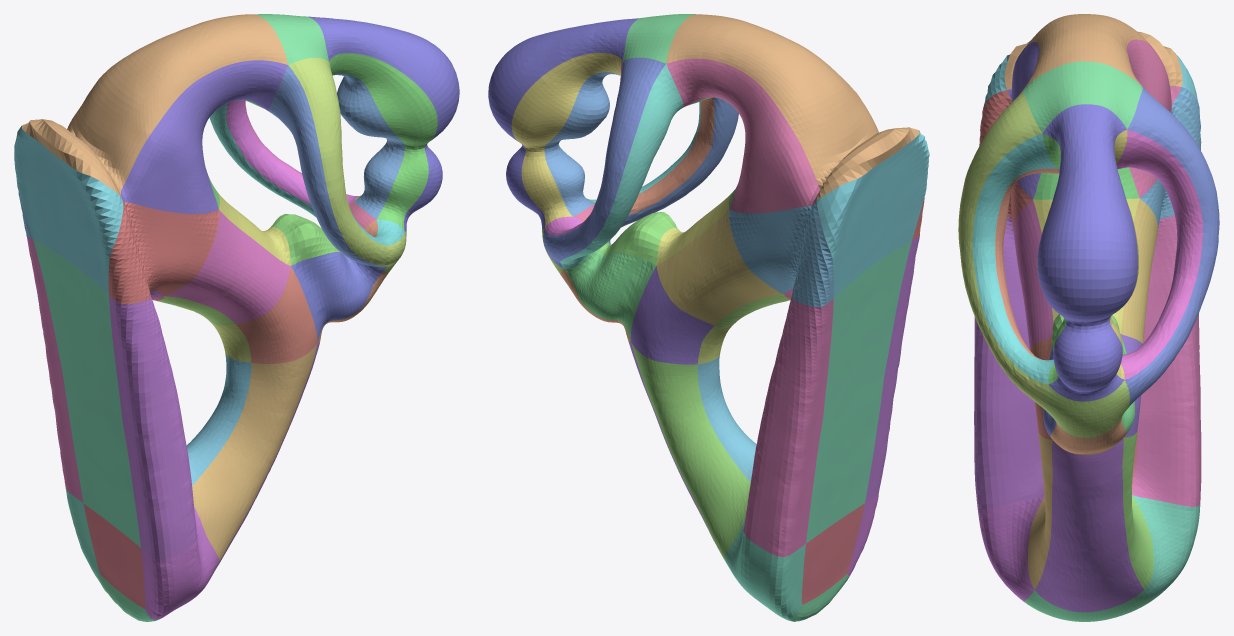
Rendered from 10_fertility_output.obj.
3 views of the same model, side by side, from view 1: azimuth 30°, elevation 25°; view 2: azimuth 150°, elevation 25°; view 3: azimuth 270°, elevation 25° (orthographic). The views are drawn at different scales.
Bounding box in the file's own units: 0.5808 × 0.7888 × 0.2963.
